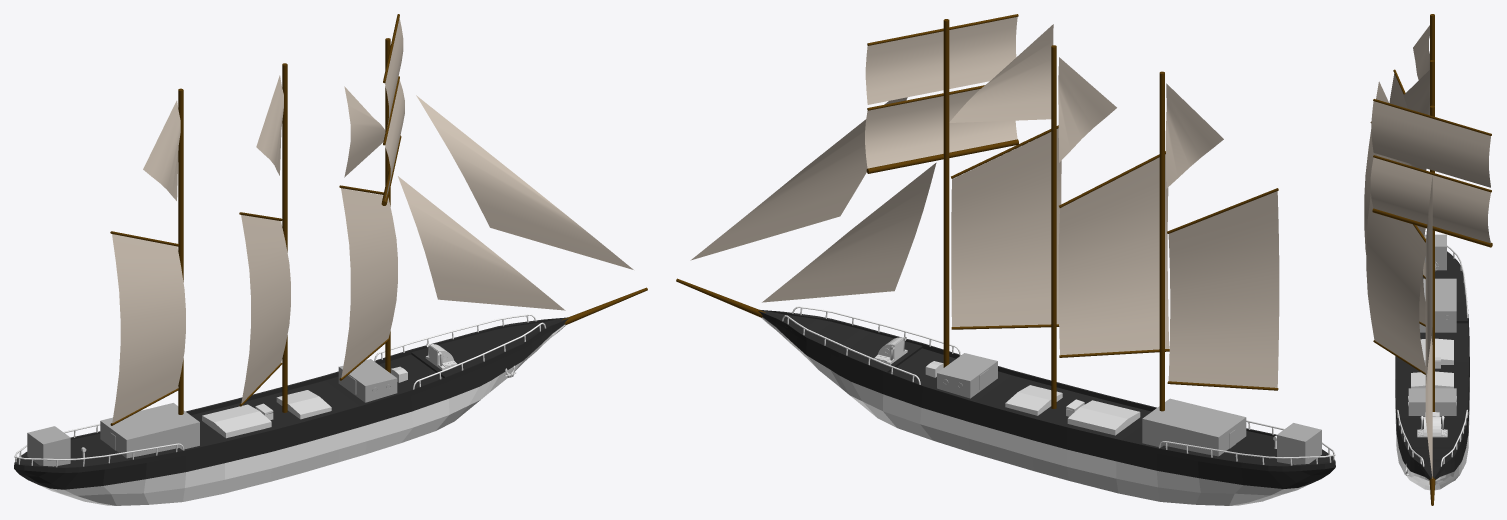
Rendered from ShipPlaceholderV1.fbx.
3 renders of one model, left to right at view 1: azimuth 30°, elevation 25°; view 2: azimuth 150°, elevation 25°; view 3: azimuth 270°, elevation 25°, orthographic. The views are drawn at different scales.
Visible parts, largest first — view 1: ShipBody, BigSail.002, SailTriangle.004, SailTriangle.003, BigSail, BigSail.001, Roef, SailTriangle, SailTriangle.002, Box Front, SideWindowsL, Box Cabin (+7 smaller); view 2: ShipBody, BigSail.002, BigSail, BigSail.001, SailTriangle.003, SmallSail.001, SailTriangle.004, SmallSail, SailTriangle.002, Roef, SailTriangle.001, SailTriangle (+10 smaller); view 3: ShipBody, BigSail, SmallSail.001, SmallSail, SailTriangle.004, Roef, Box Front, BigSail.001, SailTriangle.001, SailTriangle, MastPole.002, SideWindowsS (+12 smaller).
Part boxes in pixels (<box>): ShipBody: <box>14,317,569,505</box>; BigSail.002: <box>112,234,185,423</box>; SailTriangle.004: <box>416,95,633,269</box>; SailTriangle.003: <box>398,176,565,310</box>; BigSail: <box>341,188,397,377</box>; BigSail.001: <box>241,215,290,403</box>; Roef: <box>100,403,199,458</box>; SailTriangle: <box>143,100,180,200</box>; SailTriangle.002: <box>344,86,385,177</box>; Box Front: <box>338,359,397,402</box>; SideWindowsL: <box>202,404,271,438</box>; Box Cabin: <box>27,426,70,466</box>; ShipBody: <box>758,309,1335,505</box>; BigSail.002: <box>1168,191,1279,387</box>; BigSail: <box>951,128,1061,326</box>; BigSail.001: <box>1058,154,1169,355</box>; SailTriangle.003: <box>762,162,936,302</box>; SmallSail.001: <box>865,17,1017,104</box>; SailTriangle.004: <box>690,97,907,260</box>; SmallSail: <box>865,89,1017,168</box>; SailTriangle.002: <box>949,24,1053,122</box>; Roef: <box>1142,398,1246,456</box>; SailTriangle.001: <box>1058,57,1116,162</box>; SailTriangle: <box>1165,83,1223,188</box>; ShipBody: <box>1395,251,1469,490</box>; BigSail: <box>1366,194,1425,372</box>; SmallSail.001: <box>1371,101,1490,187</box>; SmallSail: <box>1370,157,1490,243</box>; SailTriangle.004: <box>1425,176,1432,478</box>; Roef: <box>1419,278,1456,332</box>; Box Front: <box>1408,388,1456,415</box>; BigSail.001: <box>1364,129,1425,324</box>; SailTriangle.001: <box>1403,70,1429,115</box>; SailTriangle: <box>1413,25,1429,97</box>; MastPole.002: <box>1430,105,1434,411</box>; SideWindowsS: <box>1411,371,1453,388</box>.
Size of the model in its own units: 2762 by 1664 by 536.
